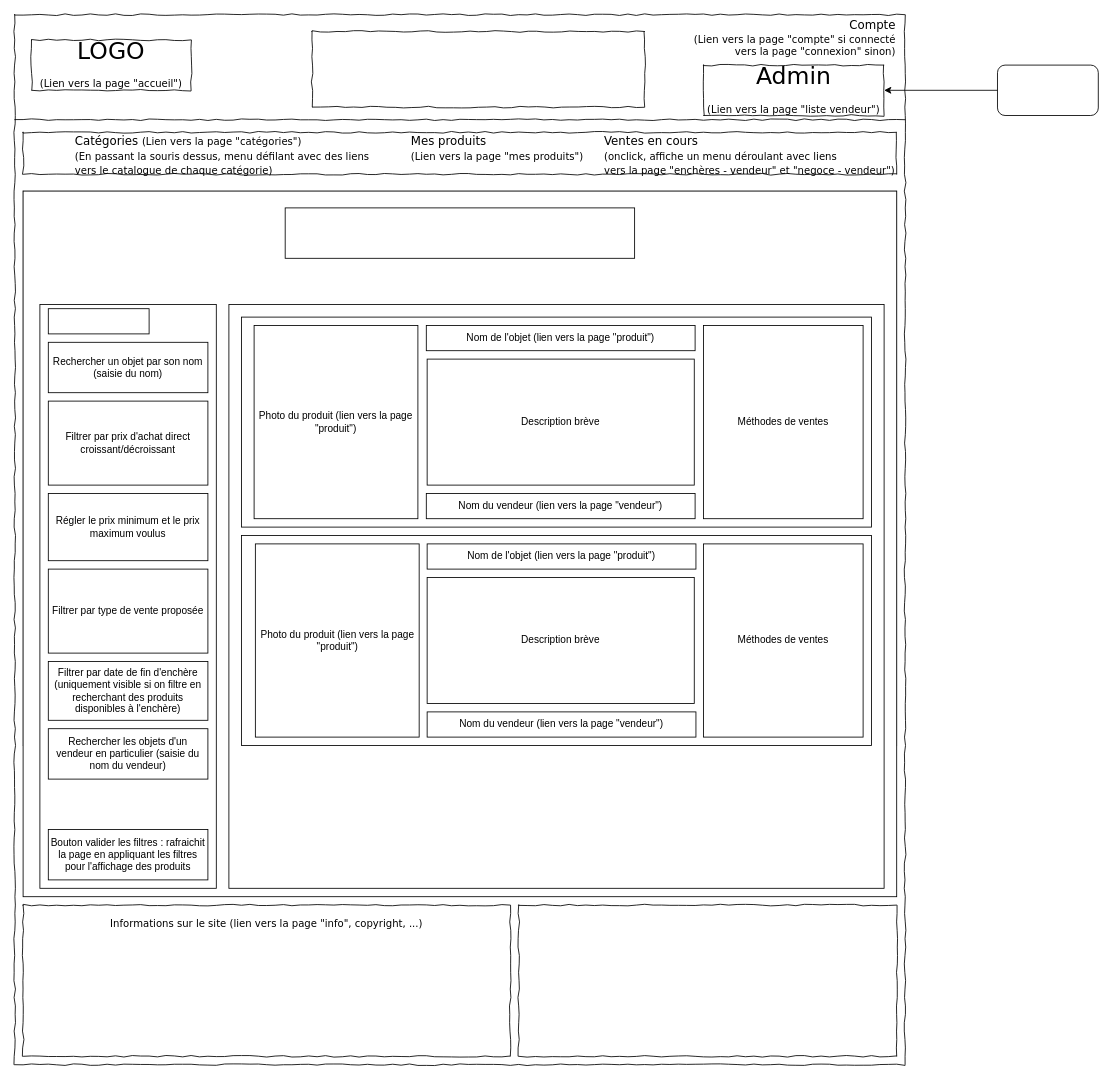
Some shapes in this 1113 by 1079 pixel diagram are drawn without their labels. Here are the shapes that lost their labels. From the top down, the centre of each, then its label:
At point 478,69: "Bienvenue ...".
At point 1047,90: "Uniquement visible si le vendeur connecté est un admin".
At point 459,232: "Catalogue : [catégorie choisie]".
At point 98,321: "Filtres".
At point 707,980: "Nous contacter".
